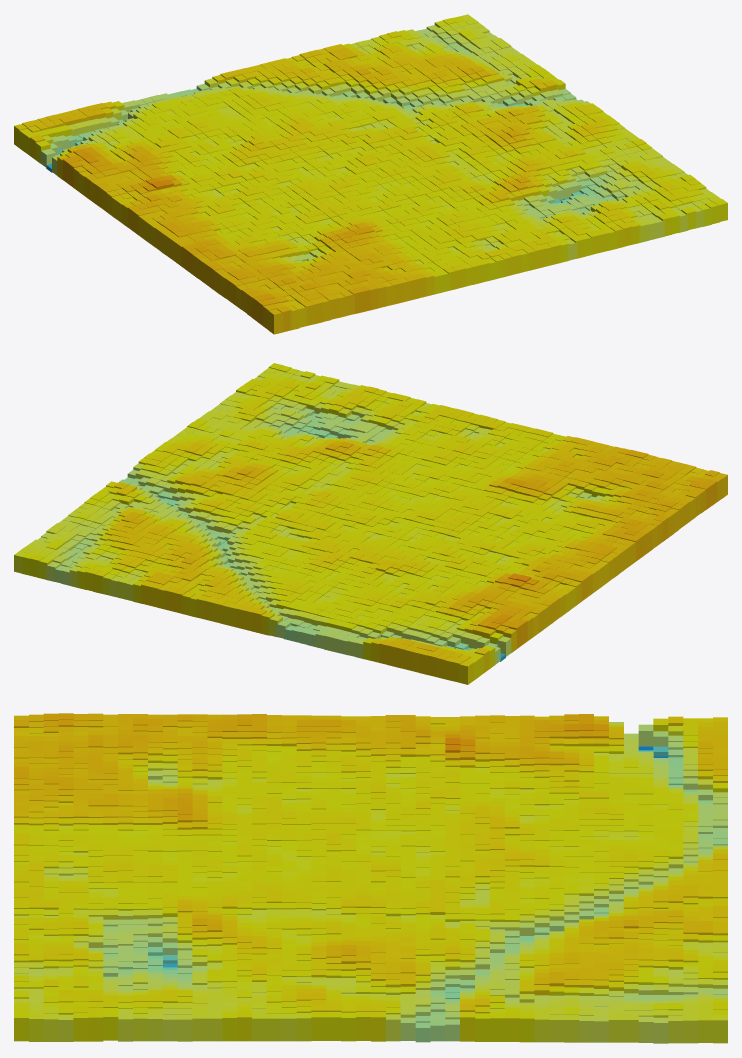
The model's file is population.glb.
3 views of the same model, one above another, from view 1: azimuth 30°, elevation 25°; view 2: azimuth 150°, elevation 25°; view 3: azimuth 270°, elevation 25° (orthographic). The views are drawn at different scales.
Visible parts, largest first — view 1: population; view 2: population; view 3: population.
Boxes of the visible parts, x1,y1,x2,y2 form: population: (14, 14, 727, 334); population: (14, 363, 727, 684); population: (14, 713, 727, 1043).
Bounding box in the file's own units: 4774 × 248 × 4736.
